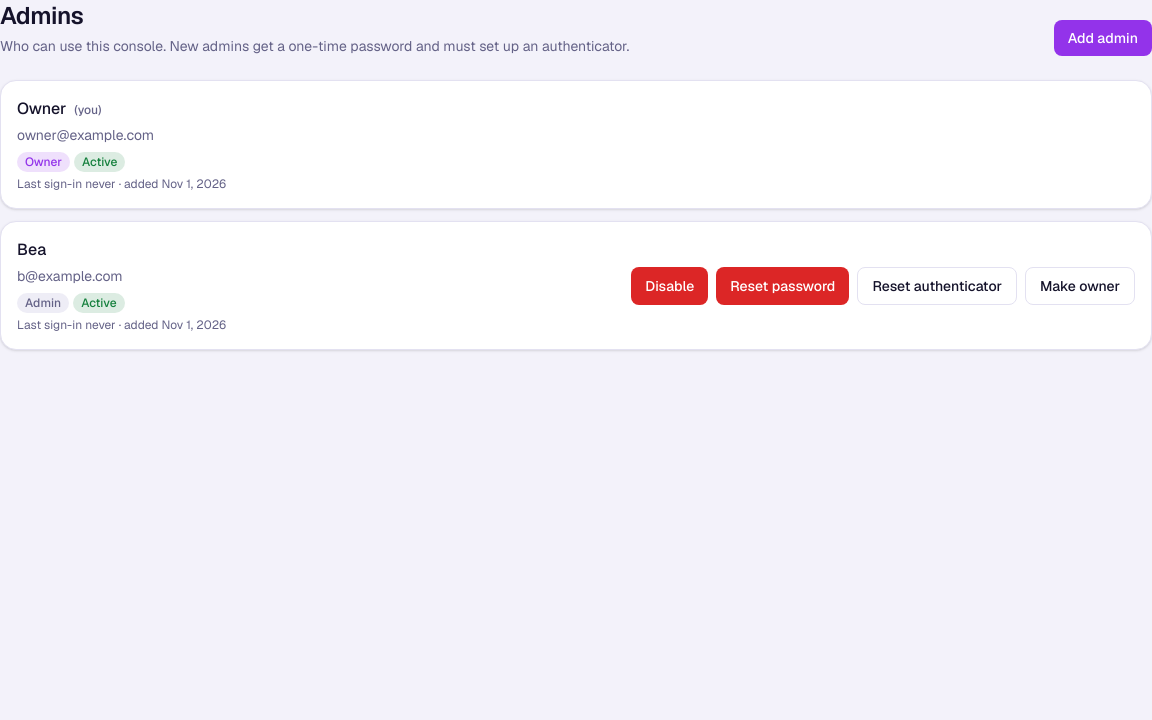
Admins page › lists admins, hides actions on your own row, and adds an admin showing the one-time password once
The image size is (1152, 720).
Expected: the text "Bea" is shown, [17,239,46,260]
Expected: the text "(you)" is shown, [74,102,102,118]
Click the button "Add admin" at (1103, 38), box [1054,20,1151,56]
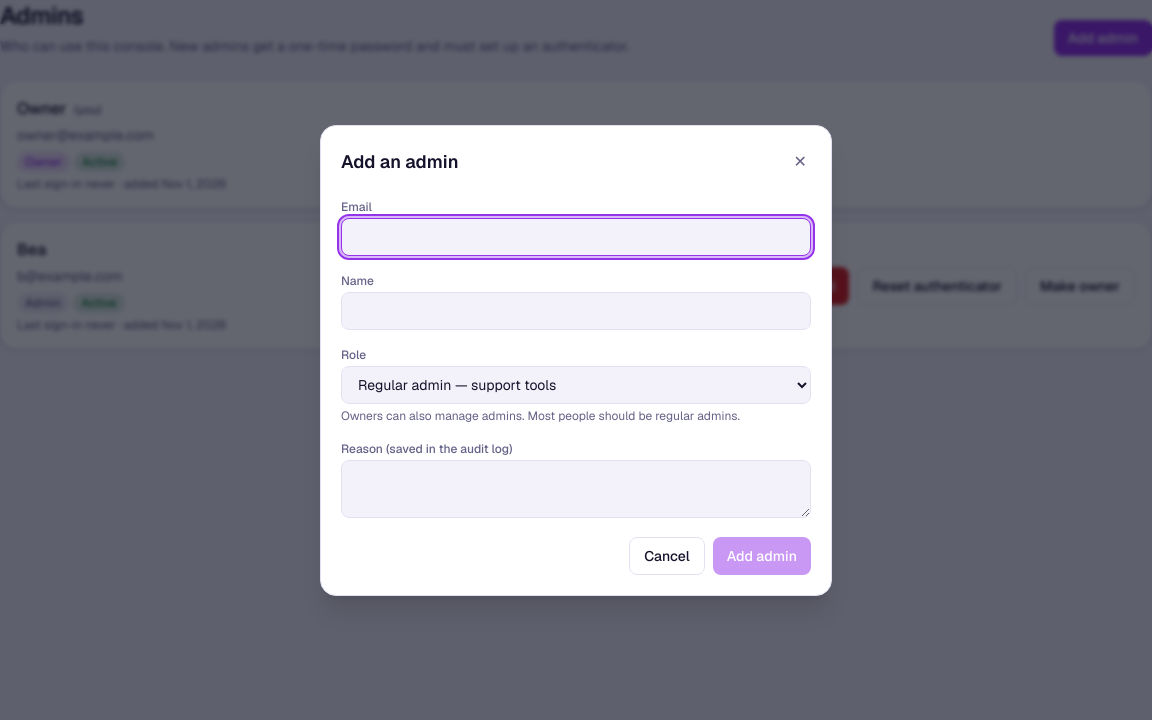
Type "new@example.com" into the field labelled "Email" at (576, 236), box [341,218,811,256]
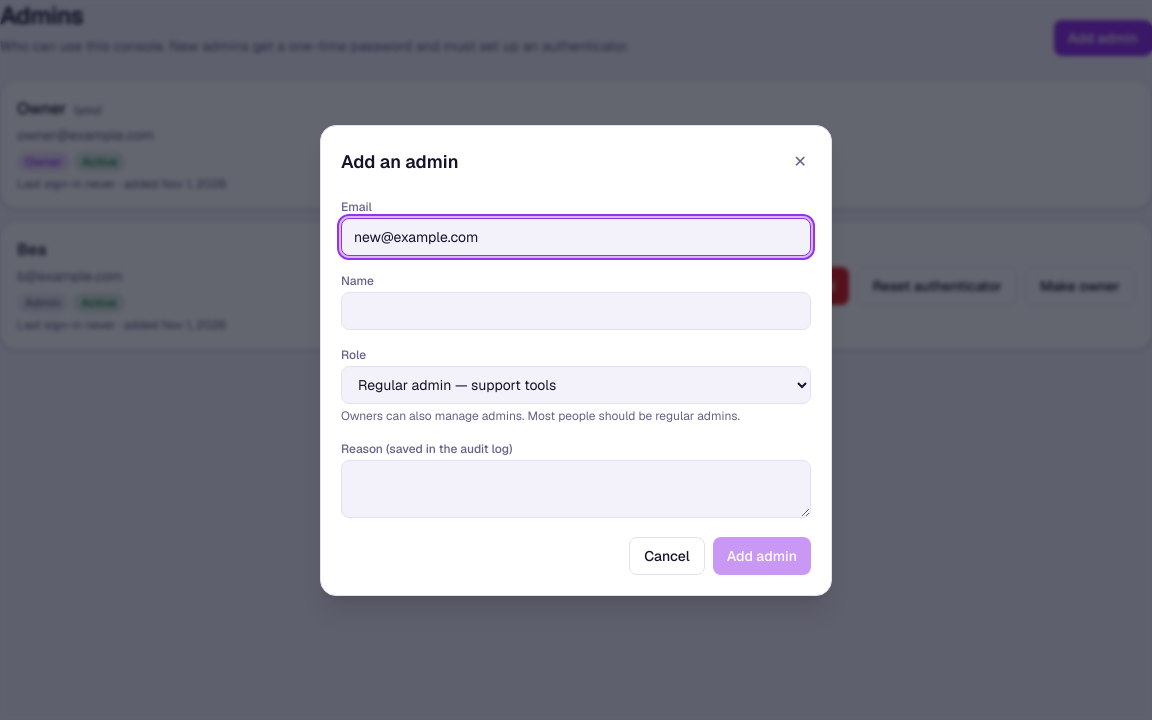
Type "New" into the field labelled "Name" at (576, 310), box [341,292,811,330]
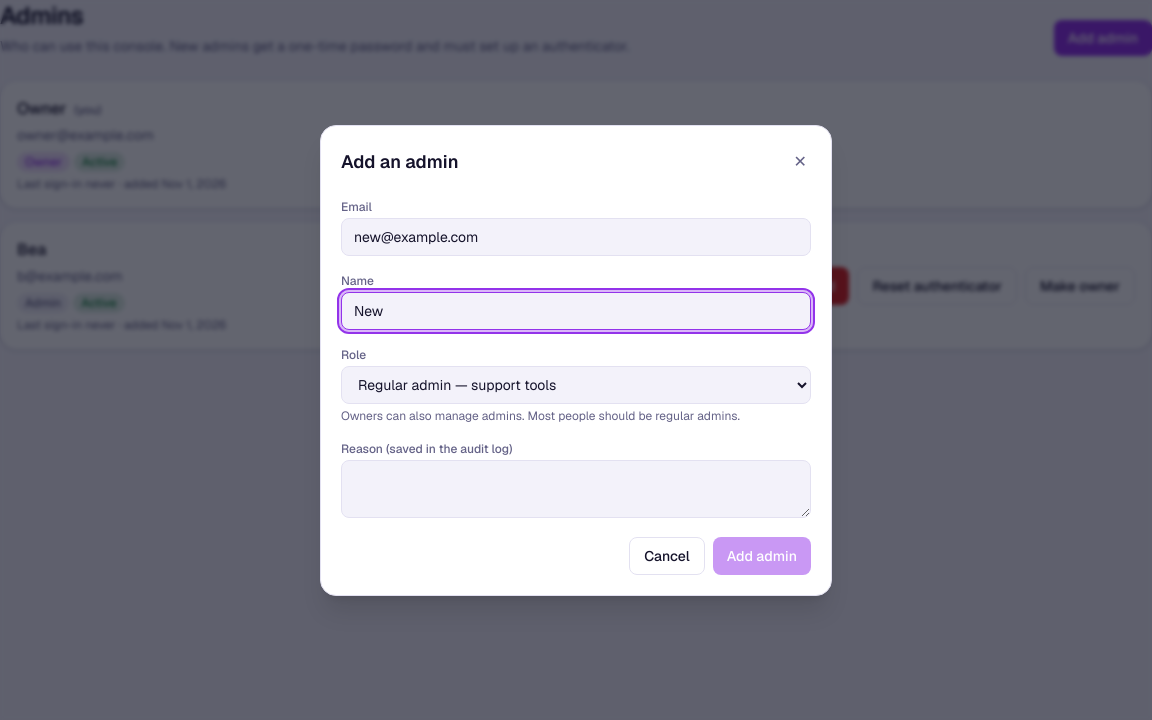
Type "joining support" into the text box labelled "Reason (saved in the audit log)" at (576, 488), box [341,460,811,518]
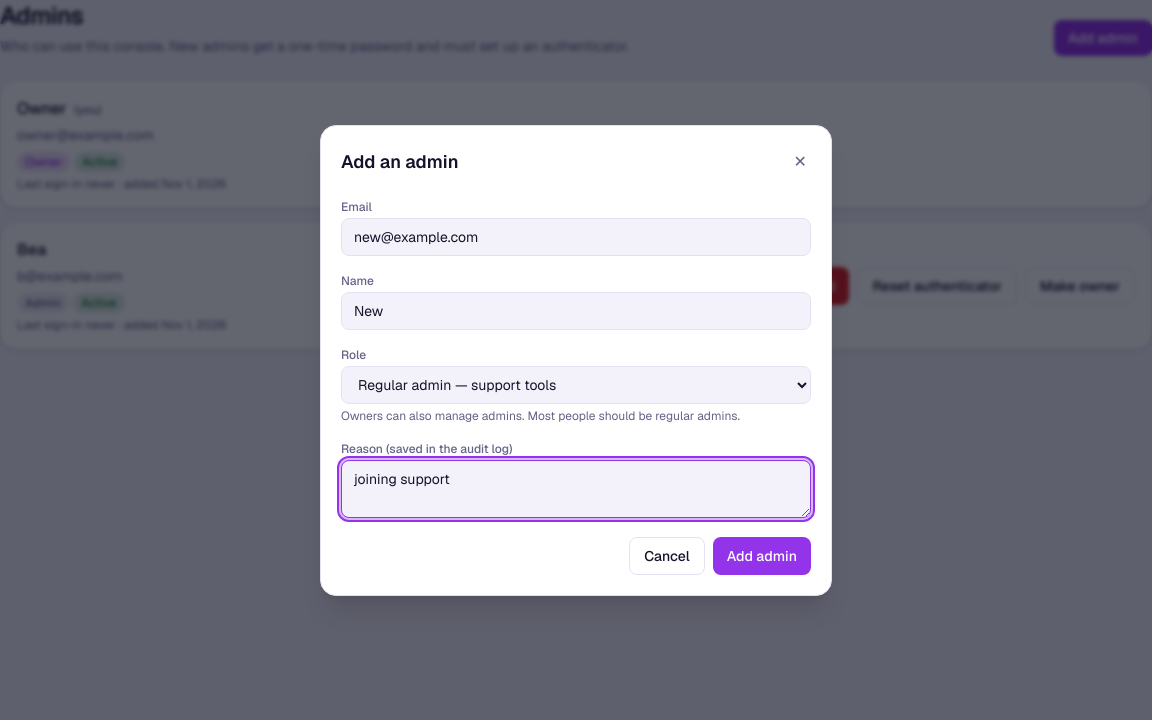
Click the button "Add admin" at (762, 556), box [713,536,811,574]
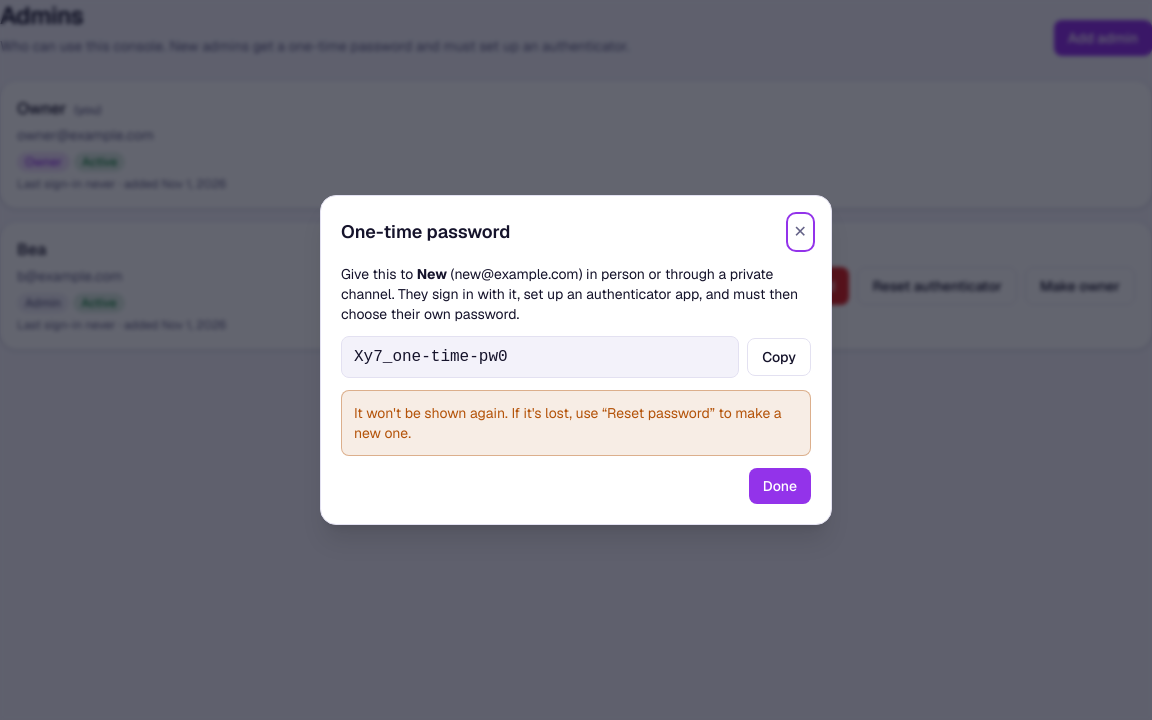
Expected: the text with test id "one-time-password" reads "Xy7_one-time-pw0", [354,348,508,366]
Expected: the text "won.t be shown again" is shown, [354,404,782,442]
